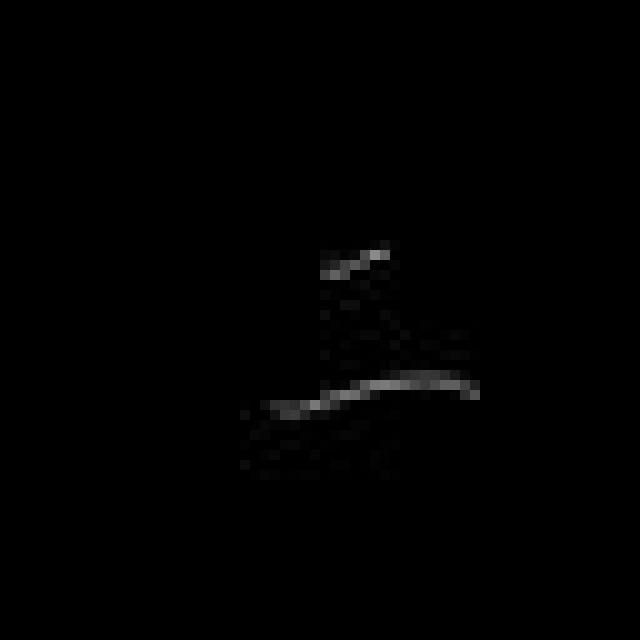2 -two-: (268, 229, 490, 438)
